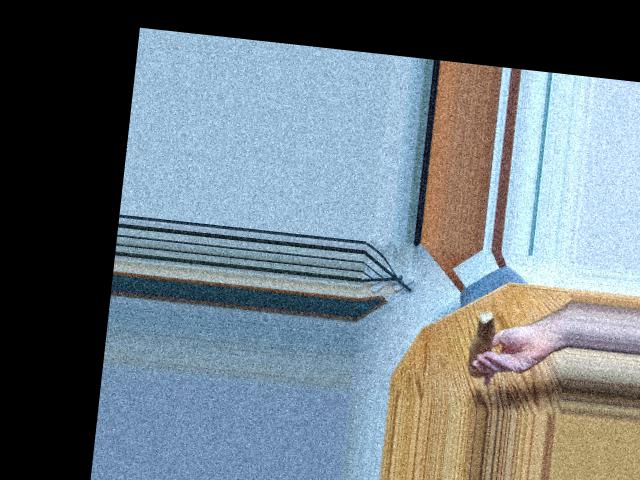sweet_potato: (463, 314, 501, 374)
